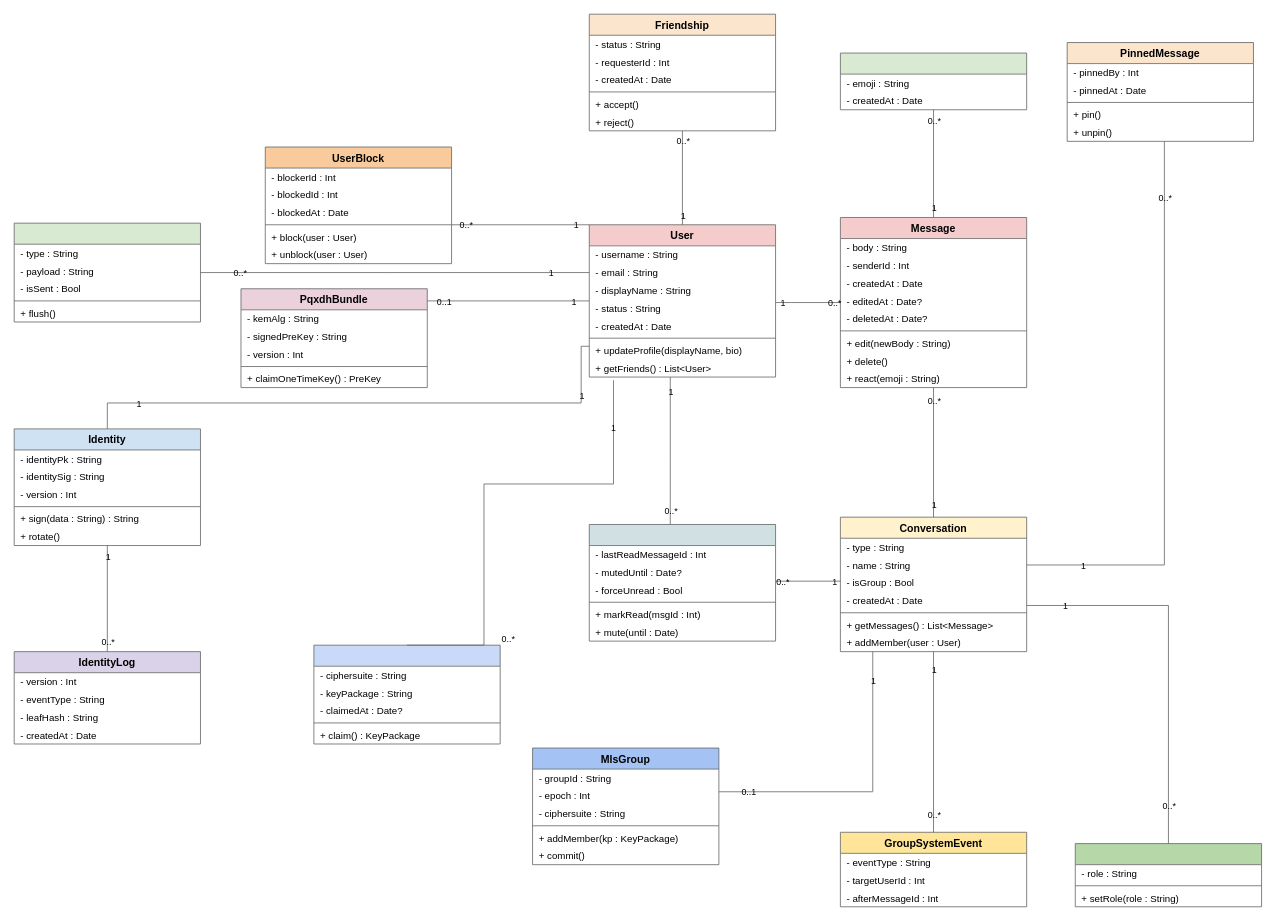
The diagram is 1276 pixels wide and 921 high, and some of its shapes have lost their labels. The box of each missing label's shape, as (x1, y1, x2, y2) in pixels:
ConversationMember: (588, 524, 776, 641)
GroupRole: (1074, 843, 1262, 907)
MlsKeyPackage: (313, 644, 500, 744)
Notification: (13, 222, 200, 322)
Reaction: (840, 52, 1027, 110)
